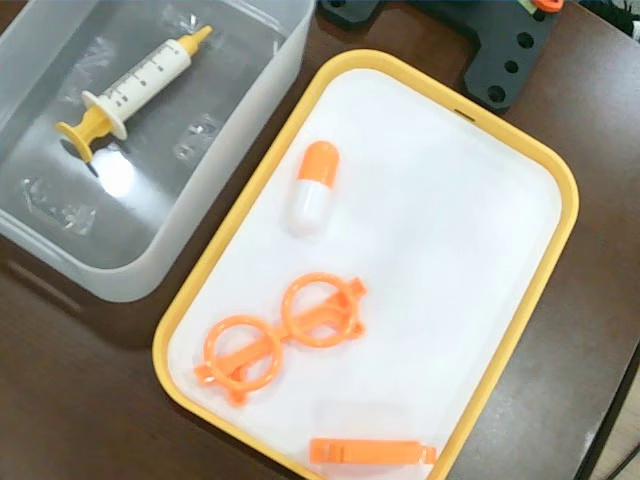pill: (283, 137, 340, 229)
syringe: (49, 25, 216, 166)
